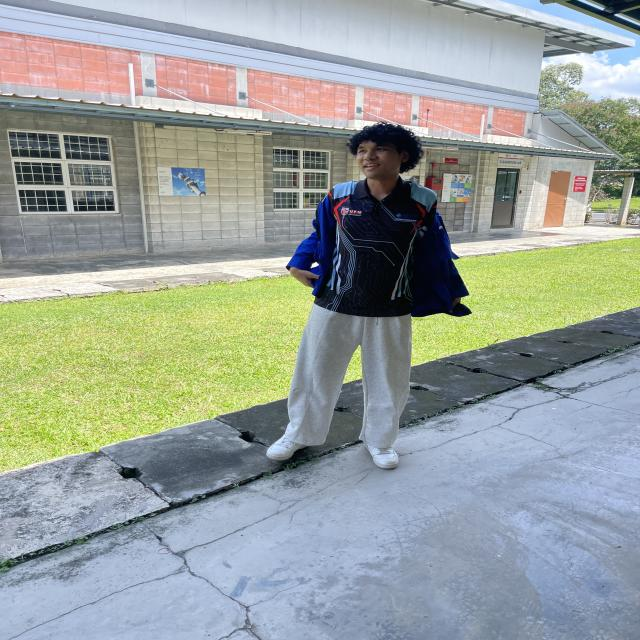person_without_labcoat: (266, 123, 468, 469)
